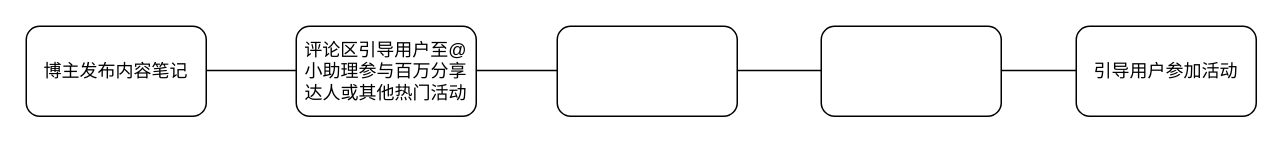
Some shapes in this 1283 by 143 pixel diagram are drawn without their labels. The shapes that lost their labels are listed below. From the top down, each one's centre as x and y in pixels, then its label:
the point at 646,70: 小助理发送微信号，引导用户加微信
the point at 910,70: 微信中分享移动云盘活动链接
